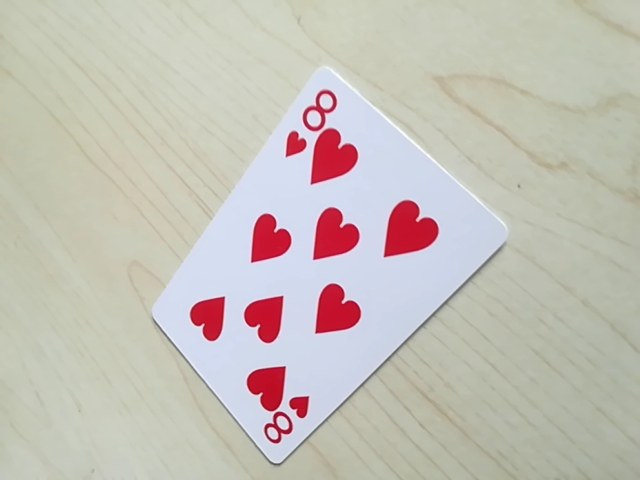hx 8: (286, 80, 345, 143), (259, 399, 311, 455)
